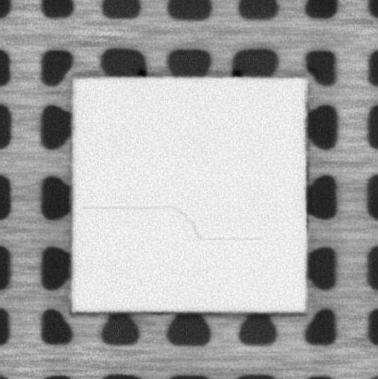DIE_CRACK: (87, 201, 261, 244)
